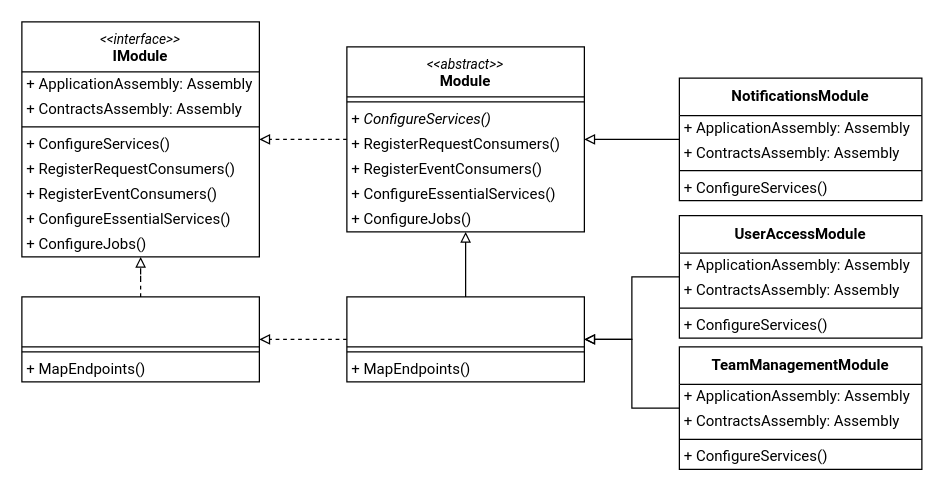
The diagram is 944 pixels wide and 491 high, and some of its shapes have lost their labels. The shapes that lost their labels are listed below. From the top down, each one's box as (x1, y1, x2, y2) in pixels, then its label:
(21, 296, 259, 382): <<interface>> IModuleWithEndpoints
(346, 296, 584, 382): <<abstract>> ModuleWithEndpoints
